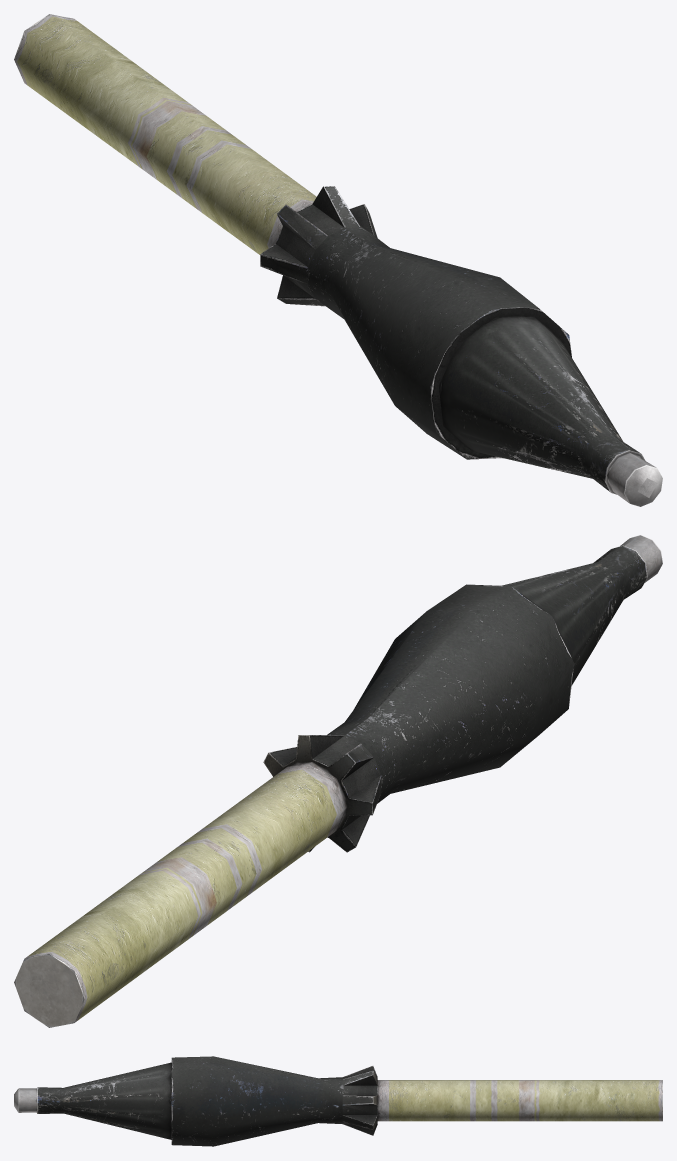
Rendered from Accessories_Bullet_Rocket_TP.fbx.
3 views of the same model, one above another, from view 1: azimuth 30°, elevation 25°; view 2: azimuth 150°, elevation 25°; view 3: azimuth 270°, elevation 25° (orthographic). The views are drawn at different scales.
Visible parts, largest first — view 1: Rocket1_FM; view 2: Rocket1_FM; view 3: Rocket1_FM.
Part boxes in pixels (<box>): Rocket1_FM: <box>14,14,662,506</box>; Rocket1_FM: <box>14,535,662,1027</box>; Rocket1_FM: <box>14,1056,662,1146</box>.
Bounding box in the file's own units: 11.49 × 11.62 × 80.2.
